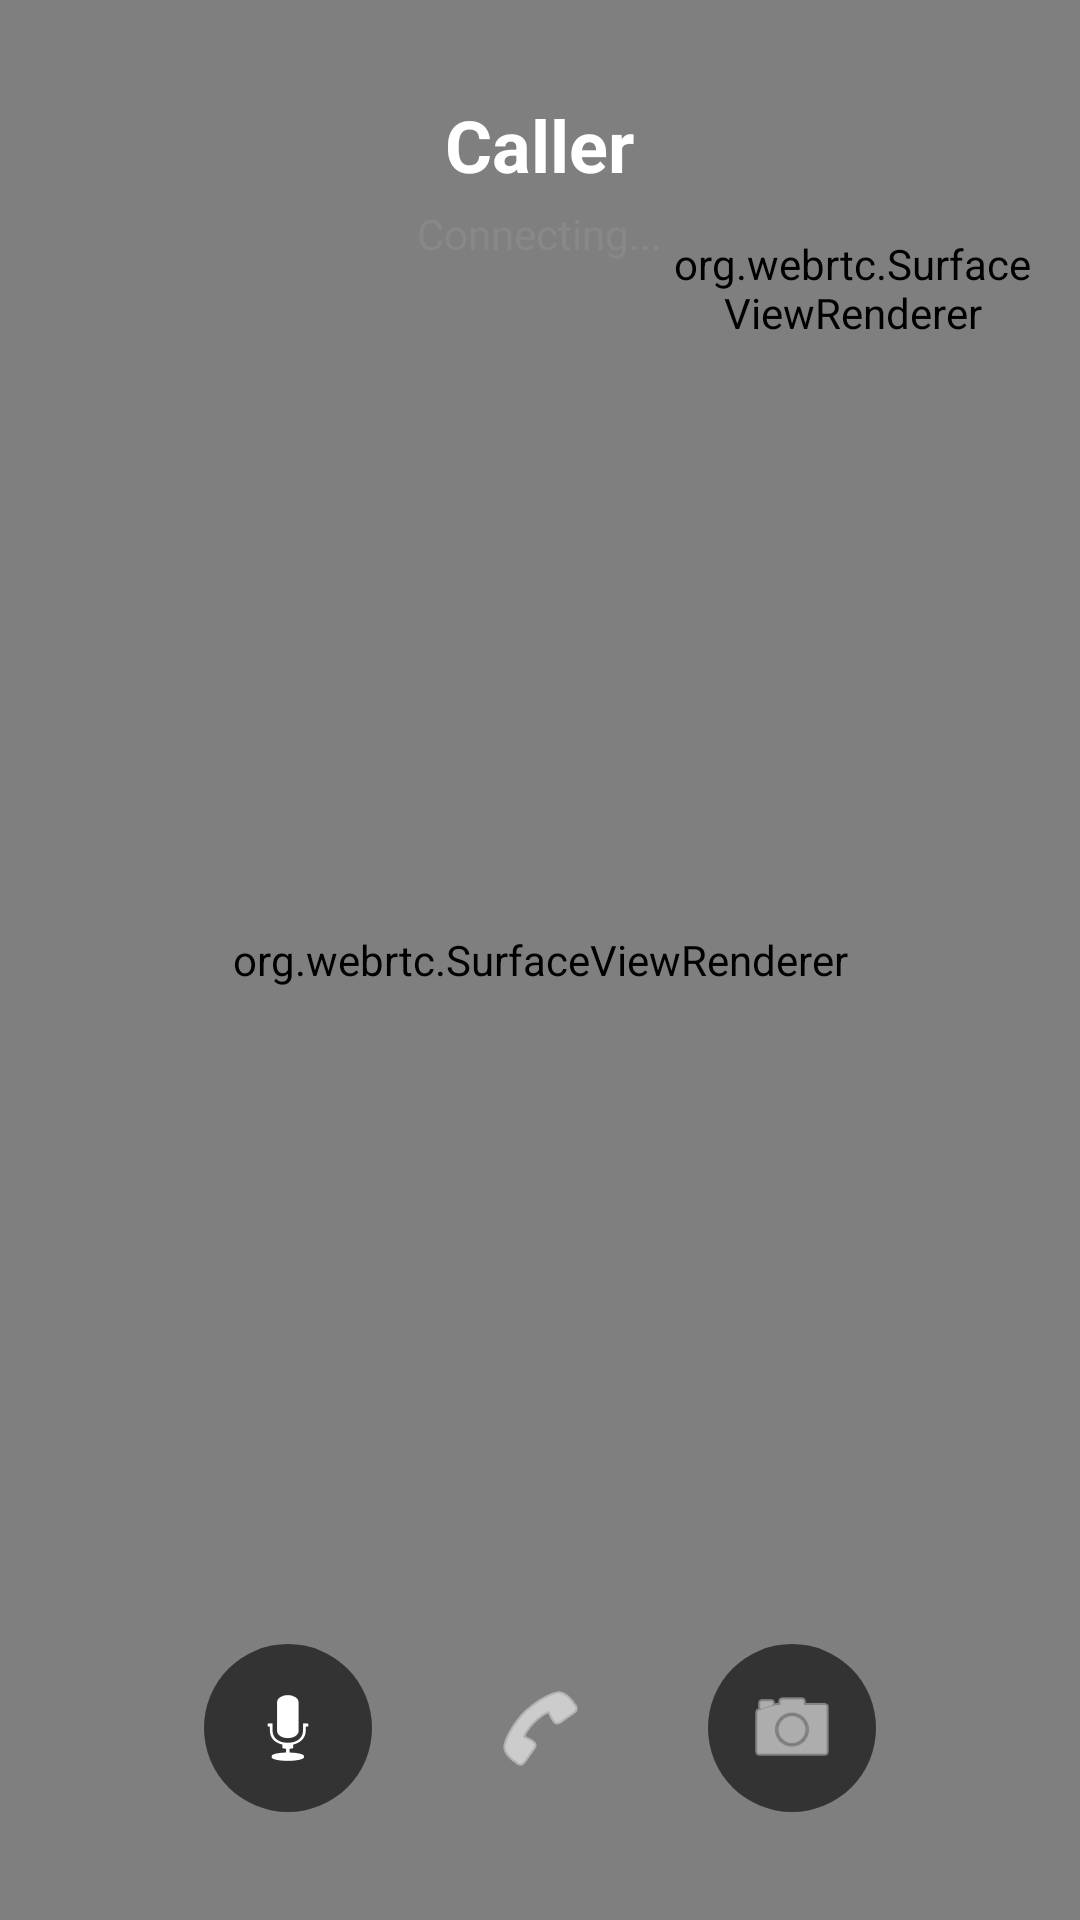

Screen size 1080 x 1920. Icon name, then its box in pixels as (x1, y1, x2, y2):
Camera: (708, 1644, 876, 1812)
End call: (503, 1691, 578, 1766)
Mute: (204, 1644, 372, 1812)
